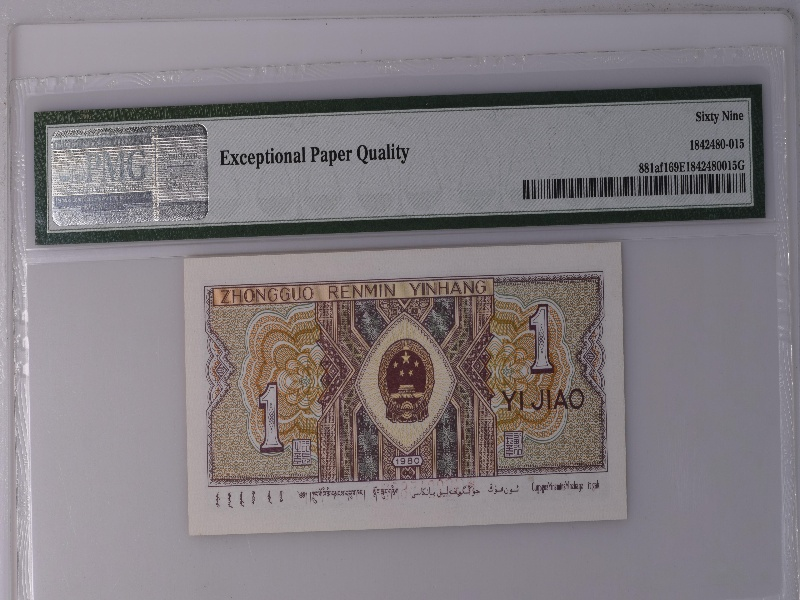papernote: (176, 248, 633, 525)
